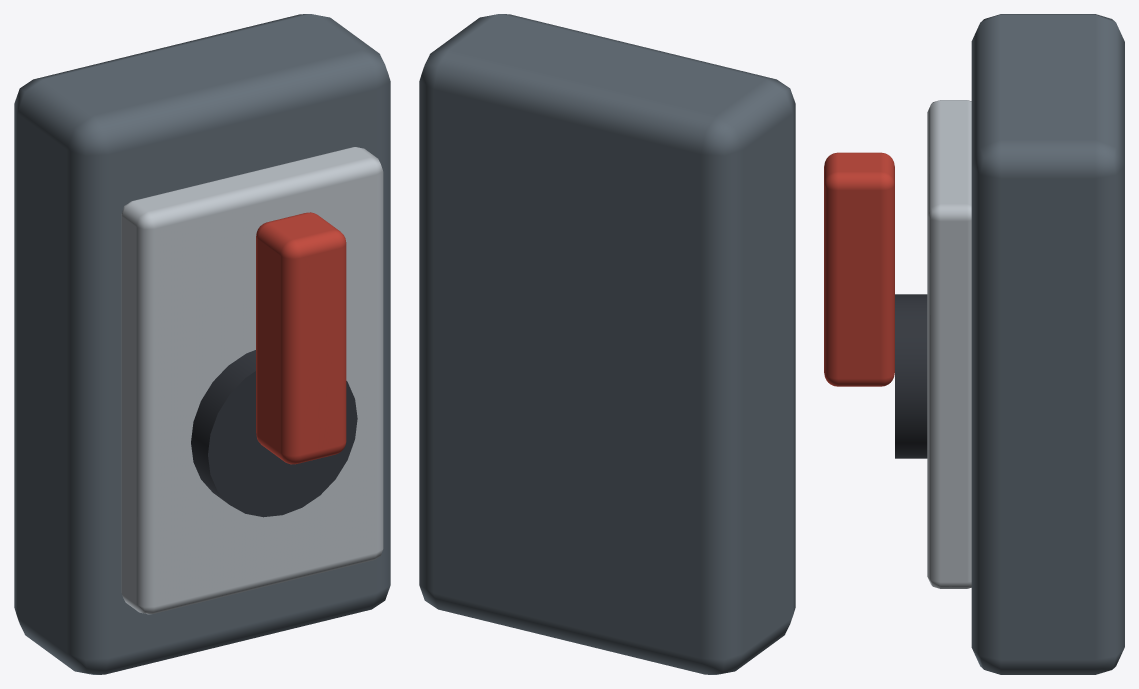
Rendered from arena-shooter-map-kit-switch-3ddfc741__23130.glb.
3 renders of one model, left to right at view 1: azimuth 30°, elevation 25°; view 2: azimuth 150°, elevation 25°; view 3: azimuth 270°, elevation 25°, orthographic. The views are drawn at different scales.
Visible parts, largest first — view 1: switch, switch-lever; view 2: switch; view 3: switch, switch-lever.
Boxes of the visible parts, x1,y1,x2,y2 form: switch: (14,14,390,674); switch-lever: (256,212,346,464); switch: (419,14,795,674); switch: (895,14,1124,674); switch-lever: (824,152,894,386).
Size of the model in its own units: 0.3 by 0.5 by 0.255.
